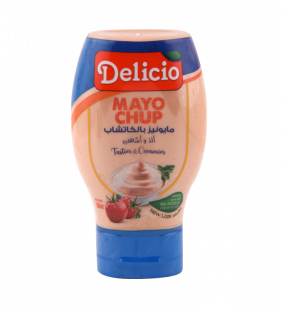DELICIO: (70, 29, 208, 279)
